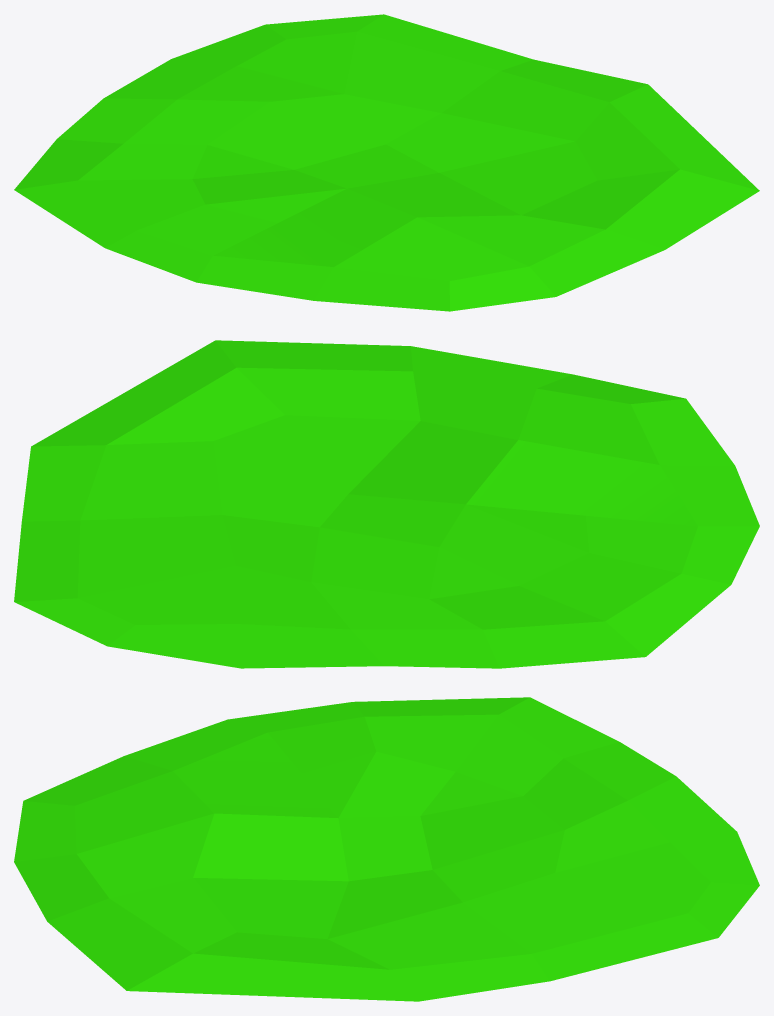
Rendered from Floor_Break_01_Collider.fbx.
The picture shows the model from 3 angles, top to bottom: view 1: azimuth 30°, elevation 25°; view 2: azimuth 150°, elevation 25°; view 3: azimuth 270°, elevation 25°; orthographic projection. The views are drawn at different scales.
Parts seen in each view (by area): view 1: Floor_Break_01_Collider; view 2: Floor_Break_01_Collider; view 3: Floor_Break_01_Collider.
Part boxes in pixels (bbox=[...]): Floor_Break_01_Collider: bbox=[14, 14, 759, 311]; Floor_Break_01_Collider: bbox=[14, 340, 759, 668]; Floor_Break_01_Collider: bbox=[14, 697, 759, 1001].
Size of the model in its own units: 804 by 30.18 by 828.
